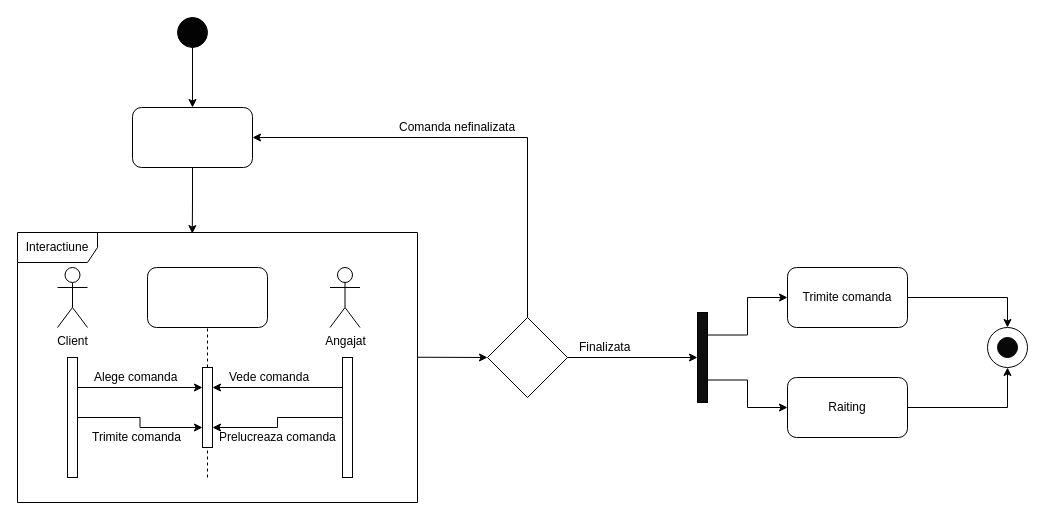
Some shapes in this 1045 by 520 pixel diagram are drawn without their labels. Each missing label, with the centre of its shape:
Comanda: [192,137]
Restaurant: [207,297]
